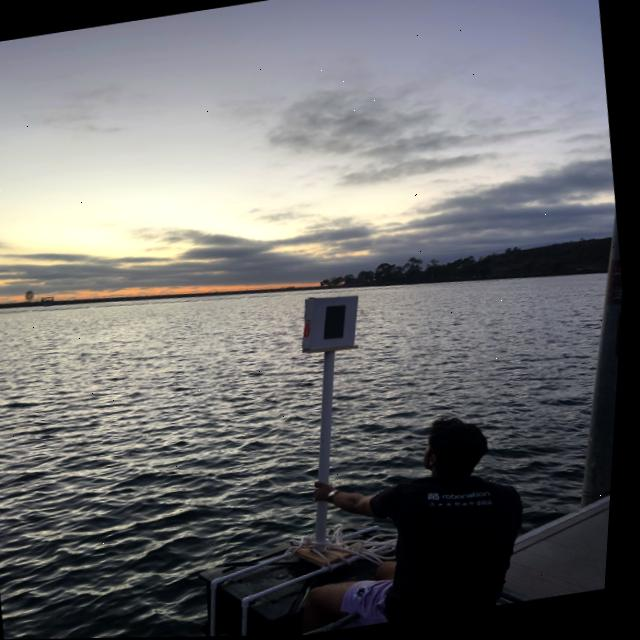led: (312, 295, 363, 354)
